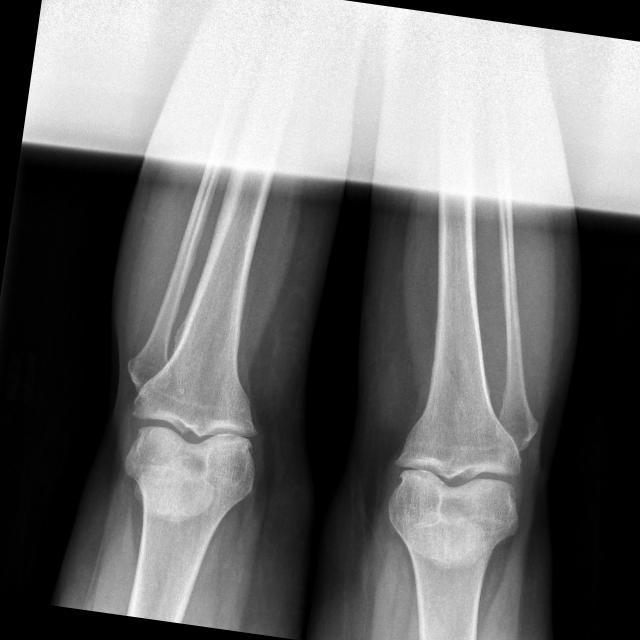Knee: (380, 408, 536, 562), (120, 361, 274, 509)
